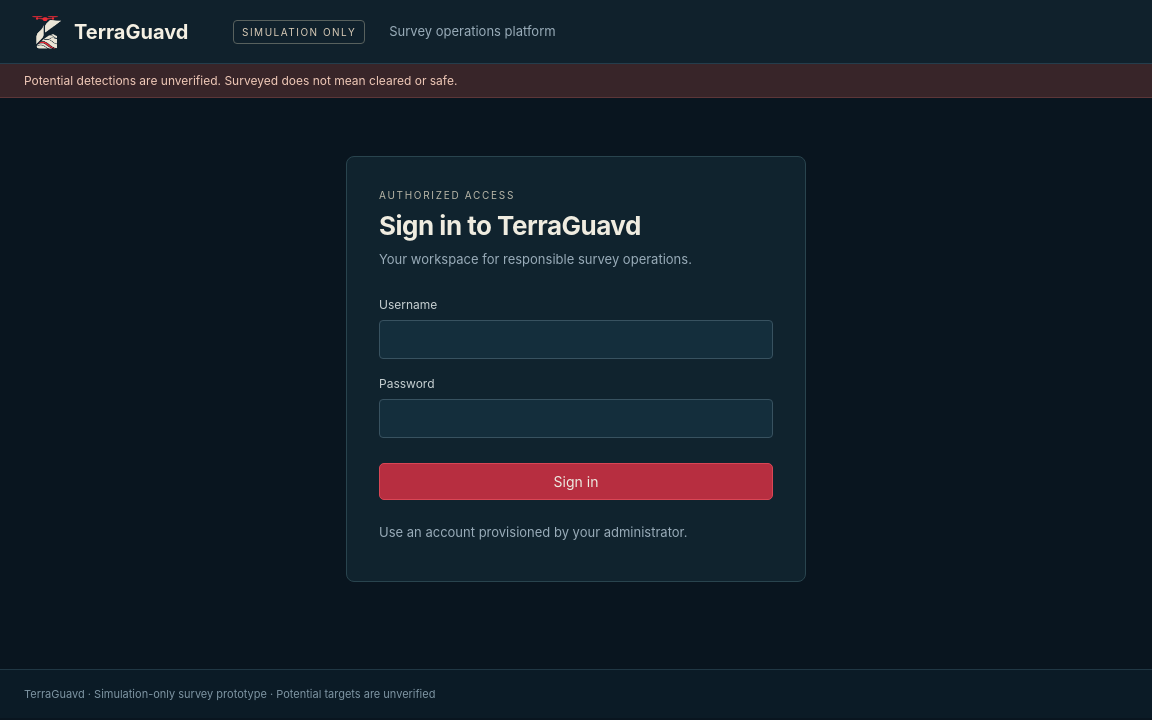
Test: role workspaces › loads and searches administrator accounts from the backend
Submit the form "Sign in", box [379,297,773,516]
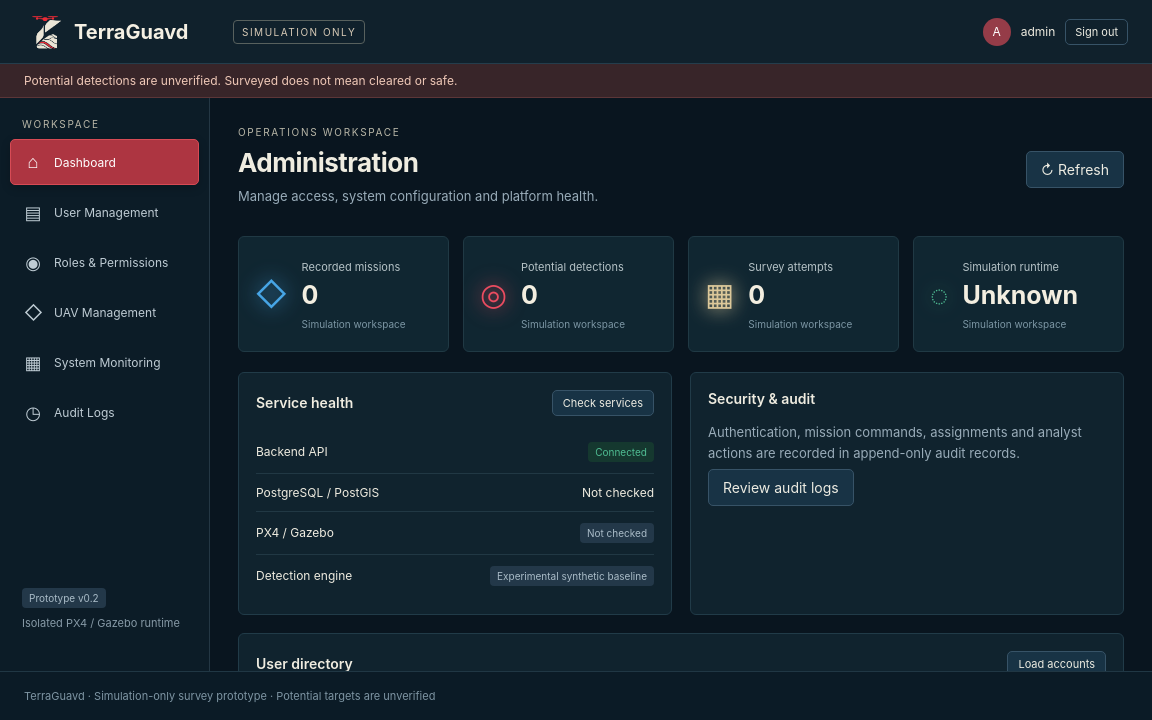
Click the button "Load accounts": click(1057, 664) [1007,651,1106,677]
(page scrolled)
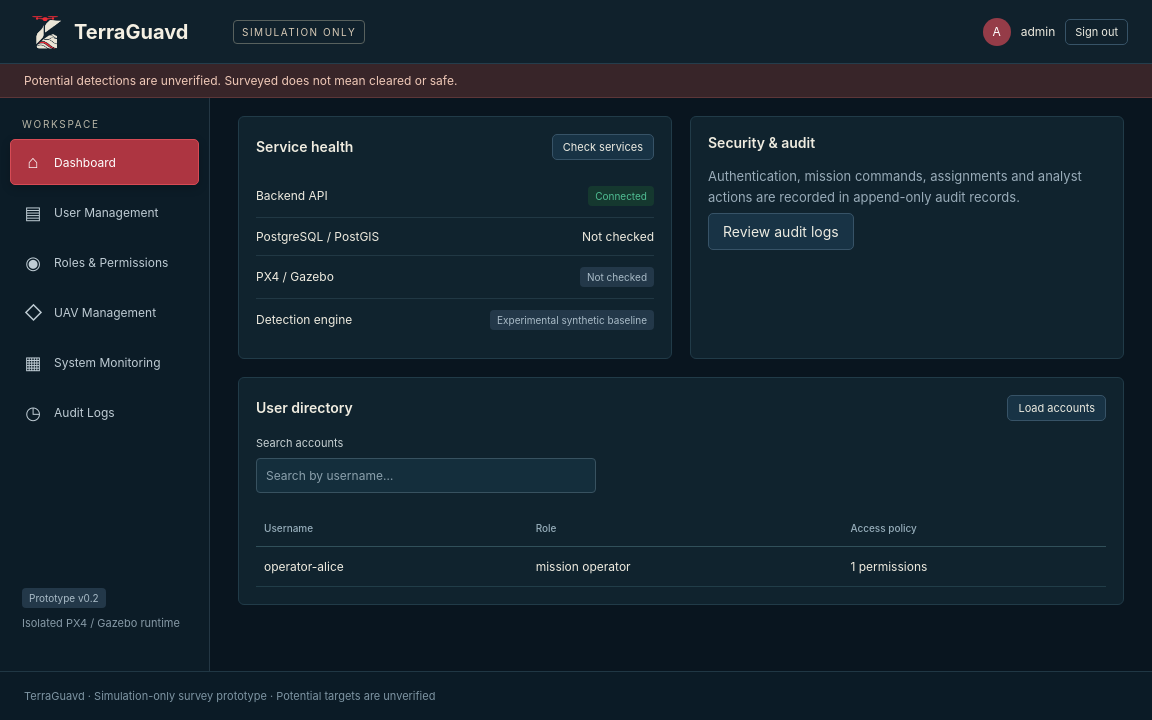
Result: the text "operator-alice" is shown at [256,546,528,586]
In the field labelled "Search accounts": (426, 475) [256,458,596,493], type "nobody"
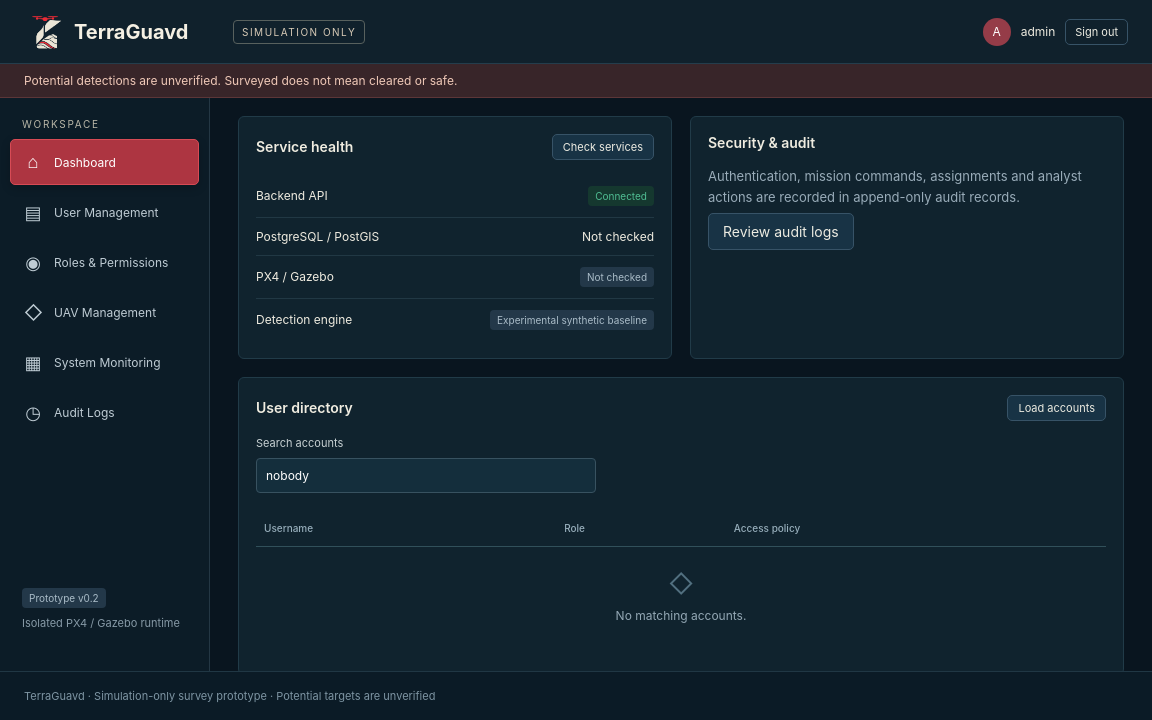
Result: the text "No matching accounts." is shown at [616,606,746,626]
